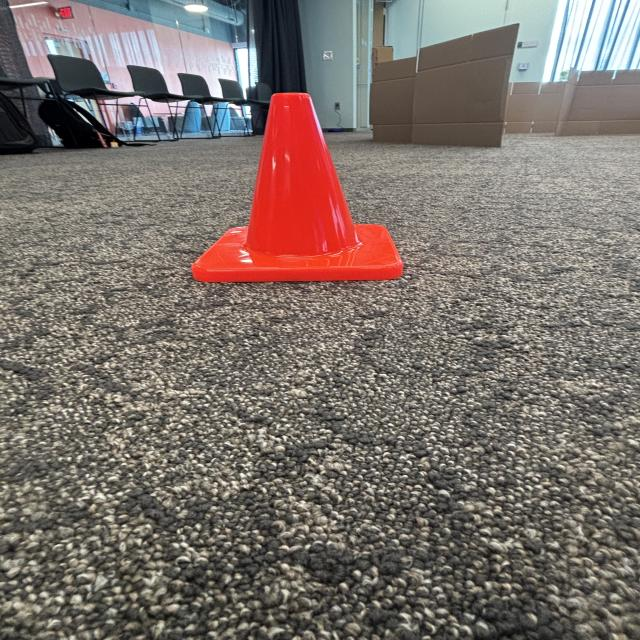Traffic Cone: (184, 88, 408, 290)
